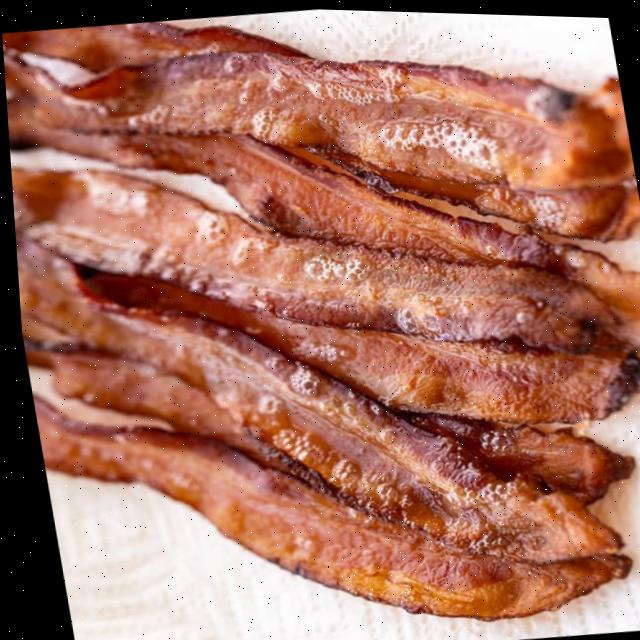Bacon: (12, 237, 613, 558), (28, 398, 622, 616), (9, 167, 611, 349), (3, 49, 629, 186)
